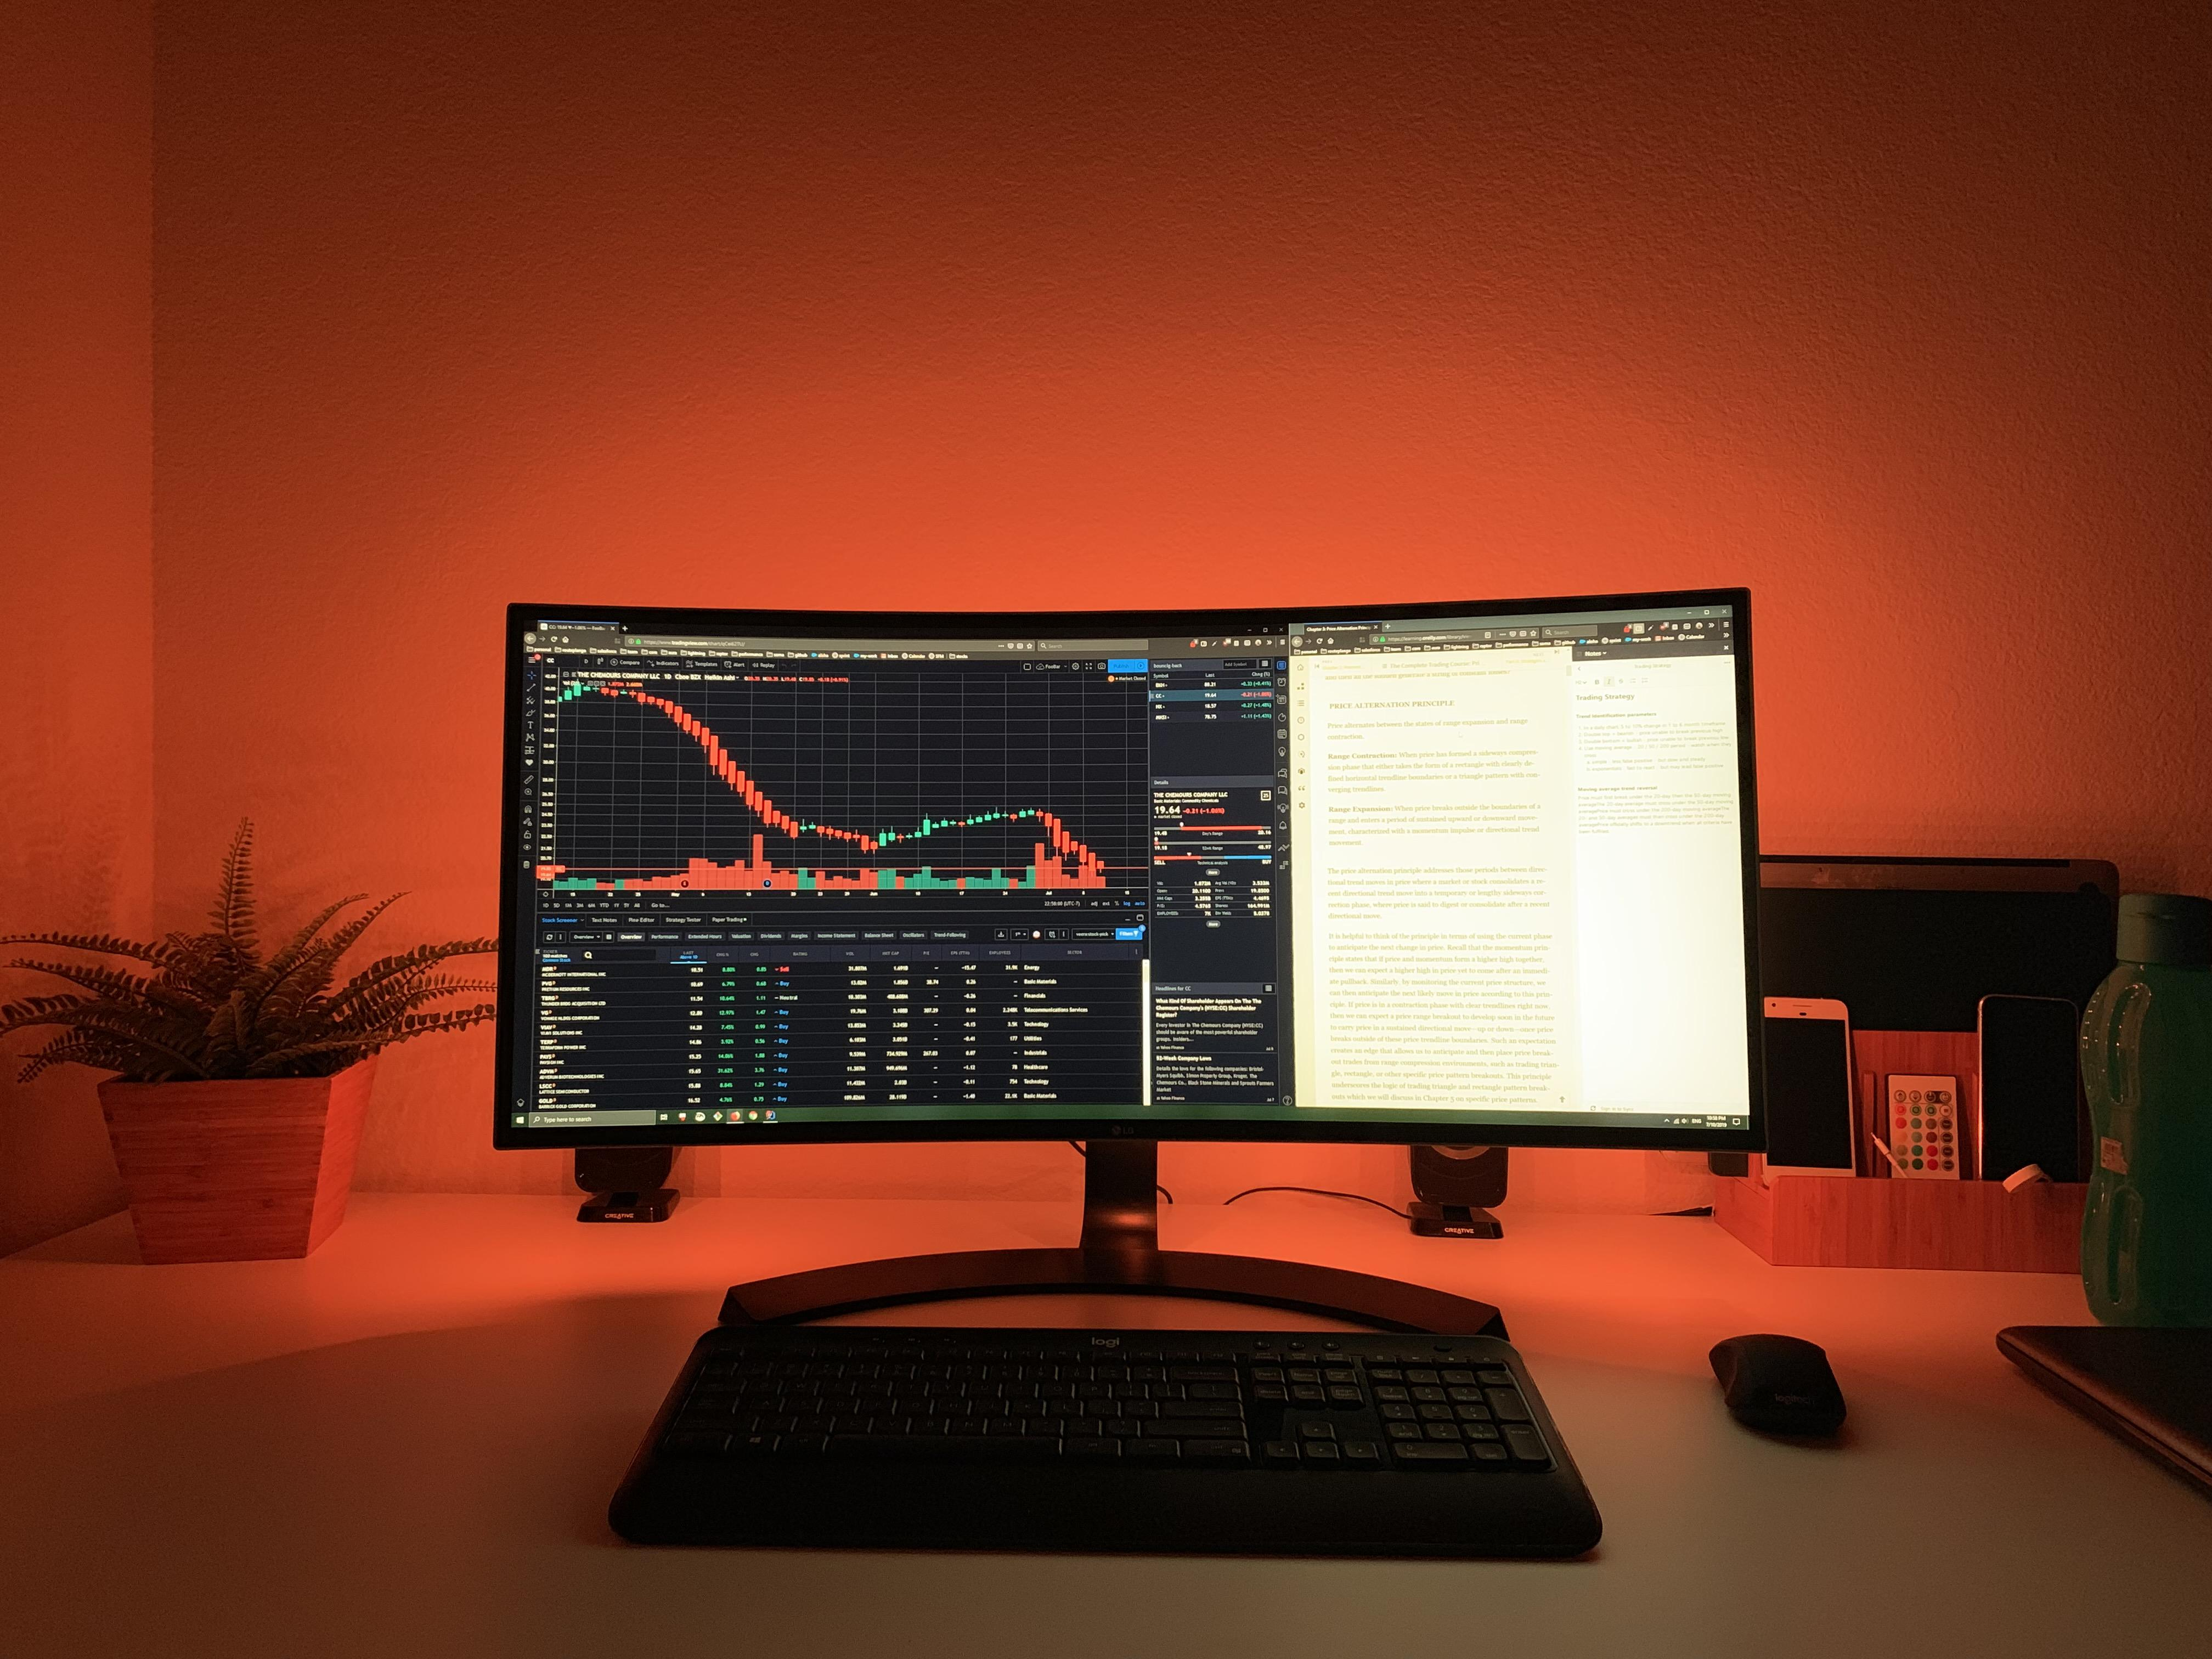Cellphone: (1724, 978, 1869, 1206), (1979, 971, 2104, 1201)
Decoration (Plant): (16, 857, 435, 1227)
Desk (Generic): (14, 1037, 2212, 1640)
External Speakers (Generic): (1359, 1039, 1540, 1249), (526, 1023, 688, 1229)
Keyboard (Generic): (604, 1304, 1595, 1568)
Monitor (Landscape): (510, 599, 1747, 1155)
Mouse (Generic): (1717, 1338, 1865, 1455)
Water Bottle: (2062, 889, 2212, 1333)
